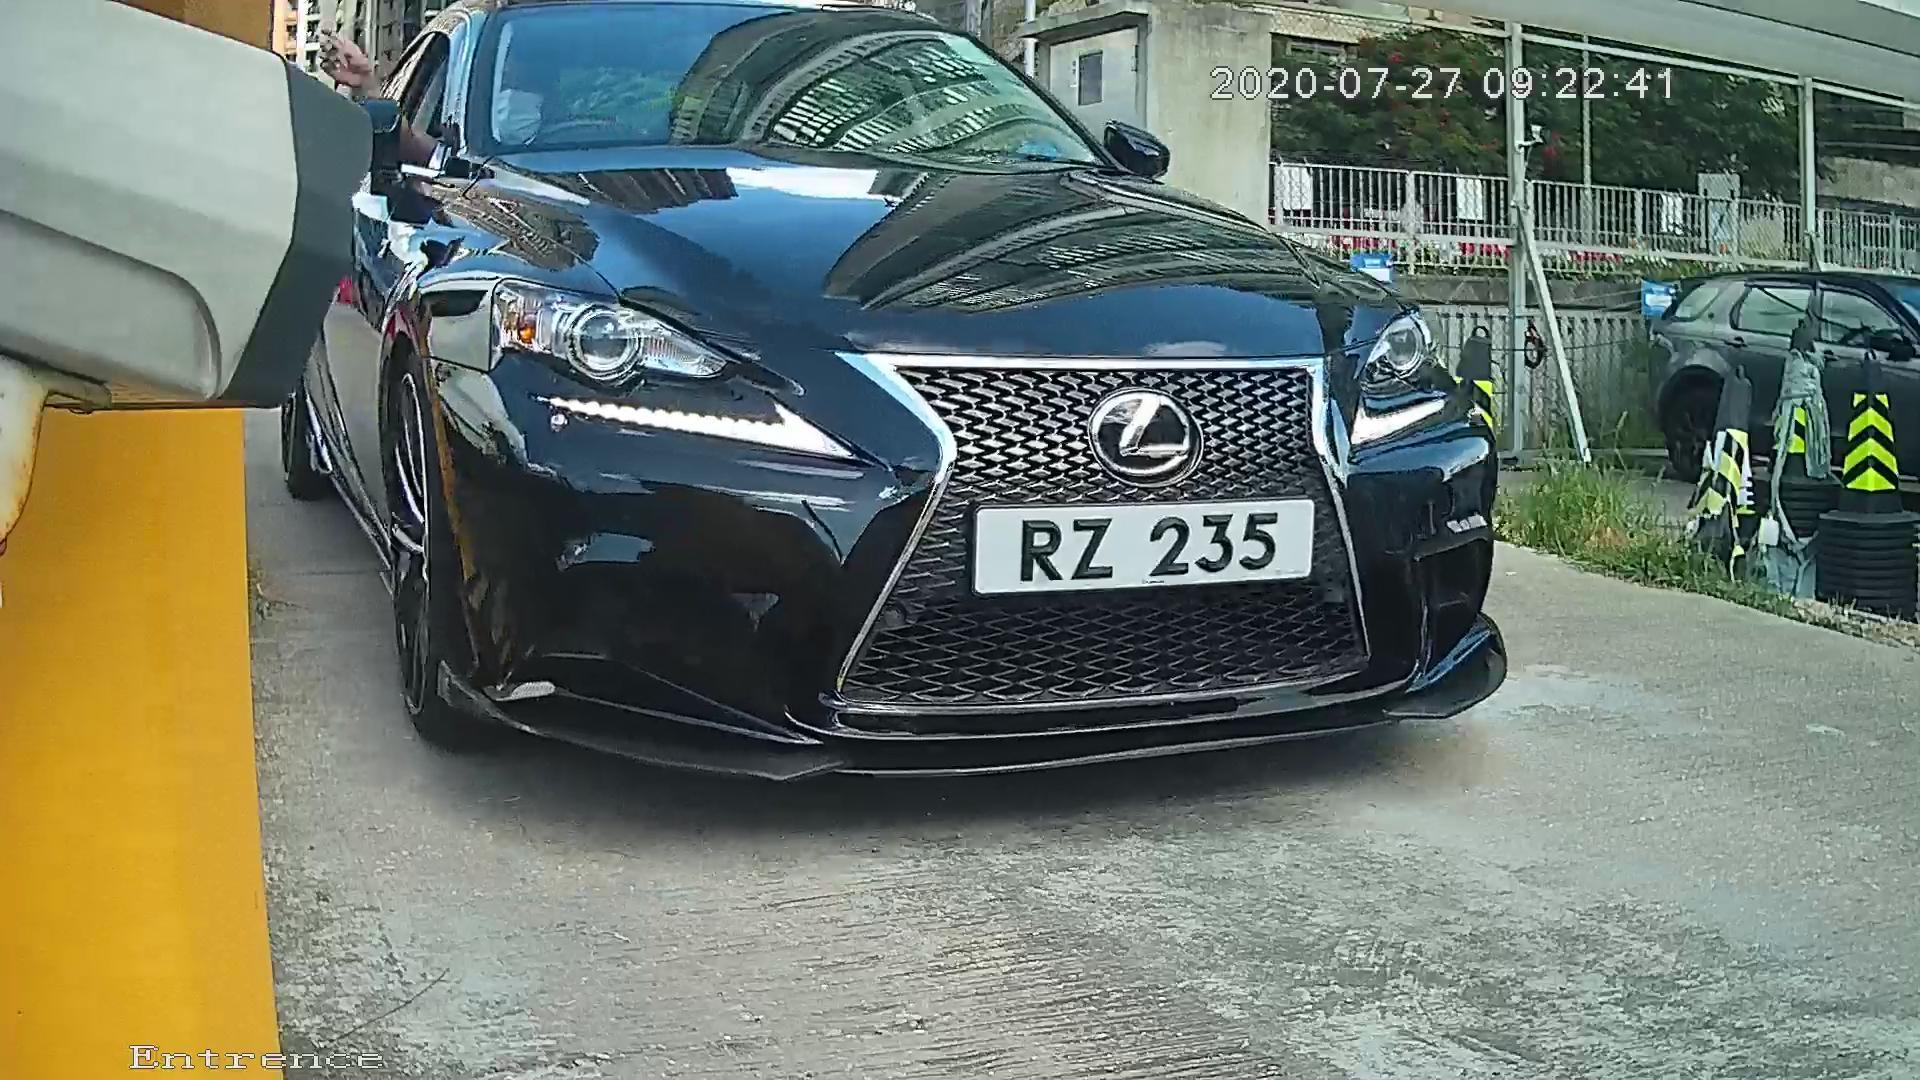Car: (241, 29, 1561, 811)
License Plate: (935, 478, 1329, 608)
